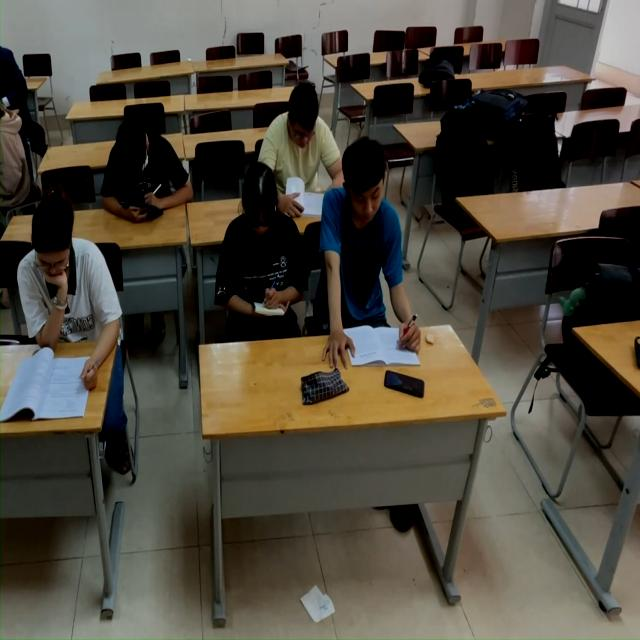read: (314, 148, 424, 375), (6, 204, 105, 427), (219, 180, 311, 338), (94, 119, 191, 231)
